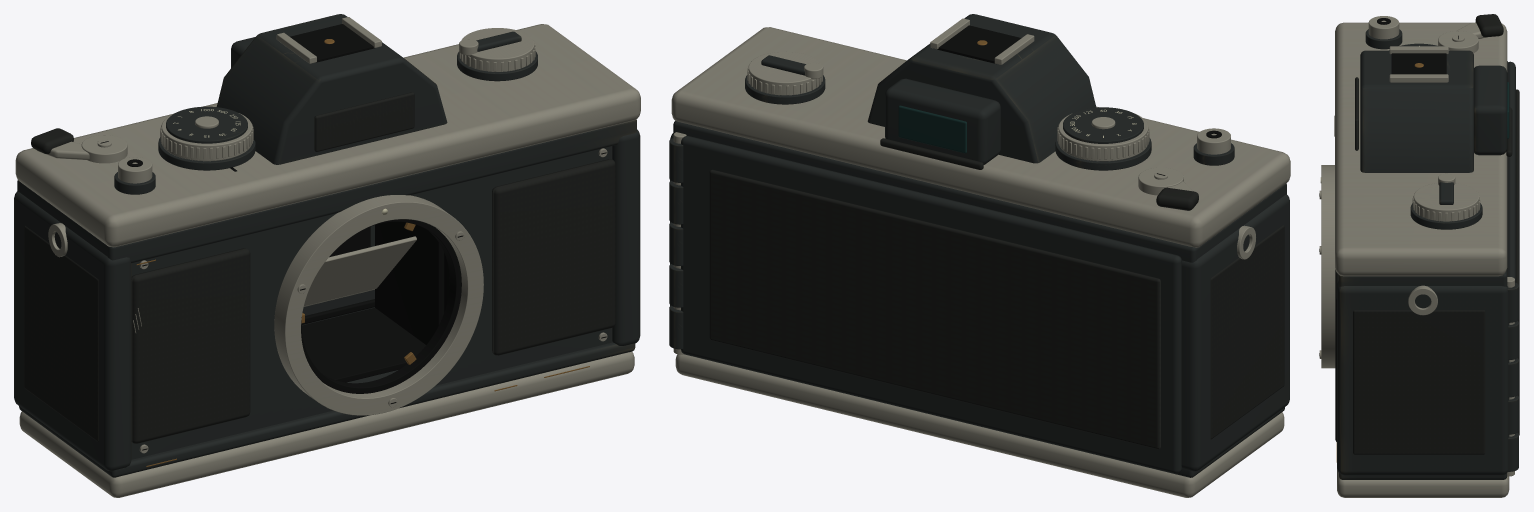
File: B01_CameraBody.fbx
3 views of the same model, side by side, from view 1: azimuth 30°, elevation 25°; view 2: azimuth 150°, elevation 25°; view 3: azimuth 270°, elevation 25° (orthographic). The views are drawn at different scales.
Visible parts, largest first — view 1: Body_Mesh, ShutterDial_Mesh, RewindKnob_Mesh, AdvanceLever_Mesh, BackDoor_Mesh, ShutterButton_Mesh; view 2: BackDoor_Mesh, Body_Mesh, ShutterDial_Mesh, RewindKnob_Mesh, AdvanceLever_Mesh, ShutterButton_Mesh; view 3: Body_Mesh, BackDoor_Mesh, RewindKnob_Mesh, AdvanceLever_Mesh, ShutterButton_Mesh.
Boxes of the visible parts, x1,y1,x2,y2 form: Body_Mesh: (14, 14, 640, 497); ShutterDial_Mesh: (158, 106, 255, 170); RewindKnob_Mesh: (457, 28, 537, 81); AdvanceLever_Mesh: (31, 128, 127, 163); BackDoor_Mesh: (301, 290, 374, 325); ShutterButton_Mesh: (118, 157, 152, 183); BackDoor_Mesh: (669, 136, 1181, 473); Body_Mesh: (669, 14, 1290, 497); ShutterDial_Mesh: (1055, 107, 1151, 170); RewindKnob_Mesh: (745, 52, 825, 104); AdvanceLever_Mesh: (1138, 167, 1198, 210); ShutterButton_Mesh: (1197, 128, 1230, 154); Body_Mesh: (1319, 22, 1518, 497); BackDoor_Mesh: (1507, 61, 1519, 435); RewindKnob_Mesh: (1410, 173, 1482, 229); AdvanceLever_Mesh: (1438, 14, 1503, 53); ShutterButton_Mesh: (1368, 16, 1399, 39).
Bounding box in the file's own units: 0.1415 × 0.0932 × 0.0511.
